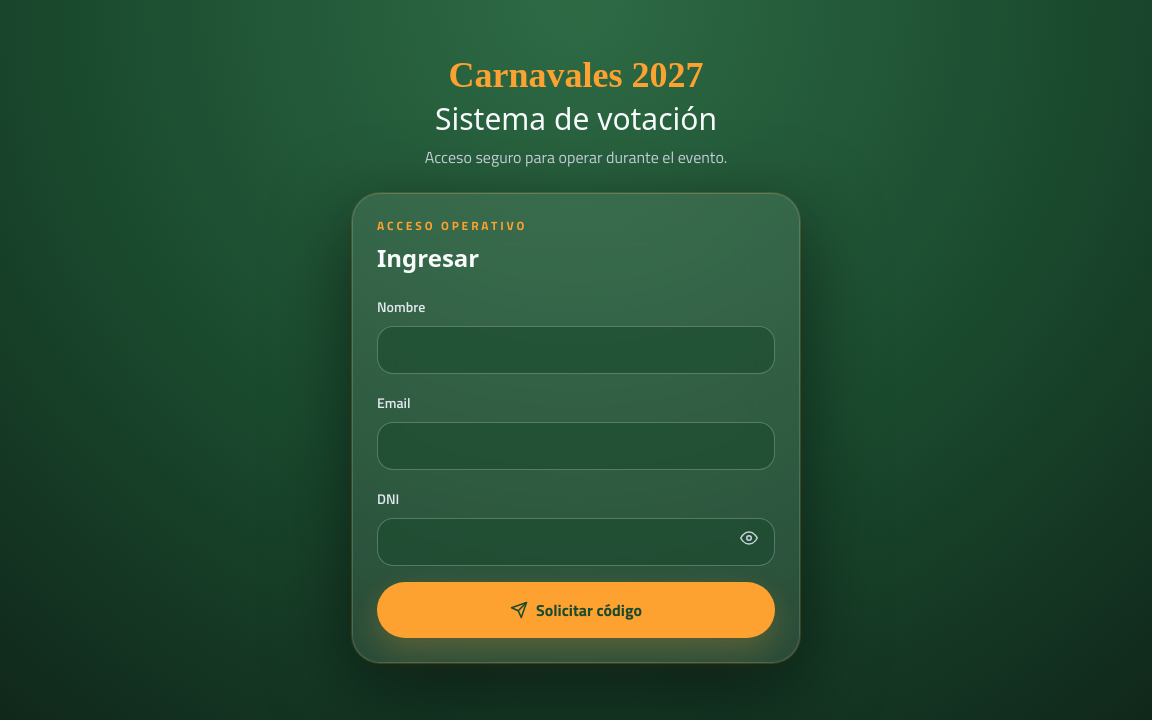
Test: LoginPage › keeps only six numeric OTP digits when pasted
The width and height of the screenshot is (1152, 720).
Type "Martin Juncos" into the field labelled "Nombre".
click(576, 350); type("Martin Juncos")  # box [377,326,775,374]
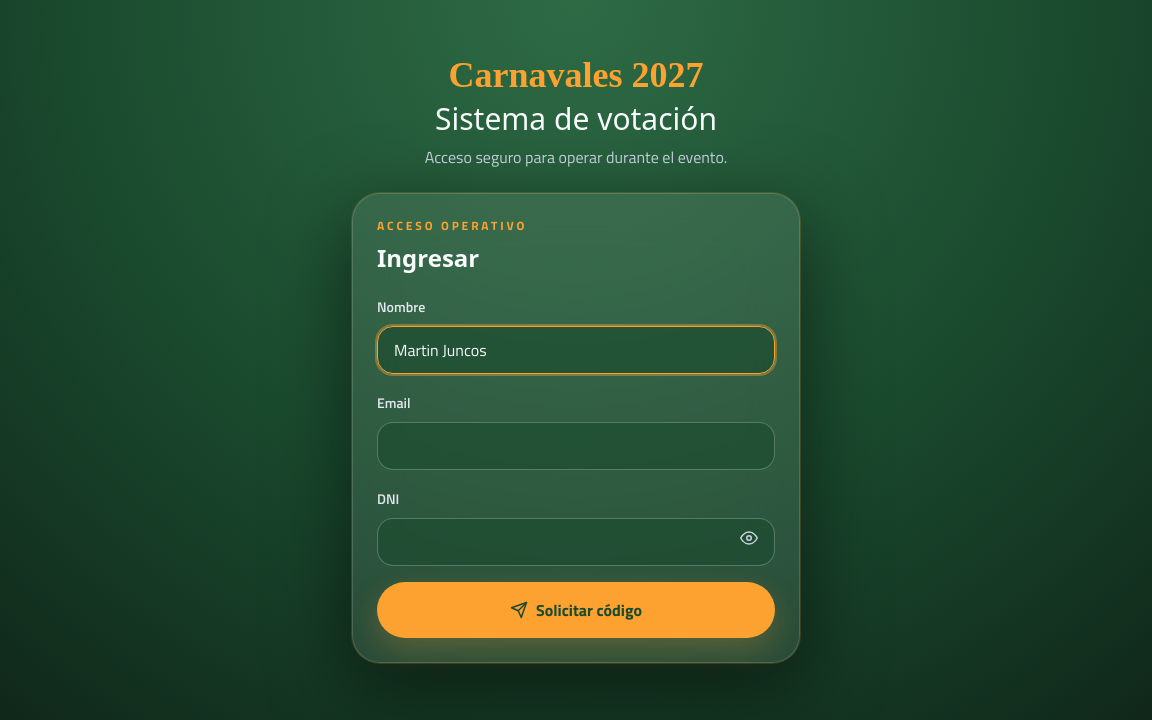
Type "jurado@example.com" into the field labelled "Email".
click(576, 446); type("jurado@example.com")  # box [377,422,775,470]
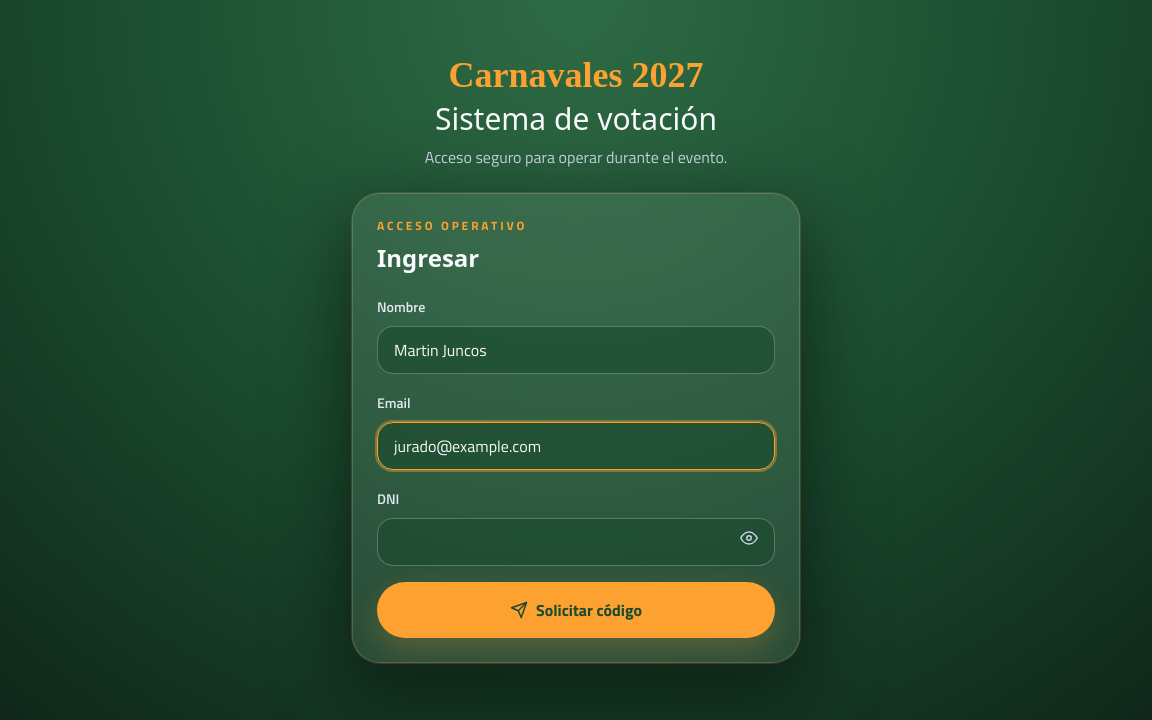
Type "25609038" into the password field labelled "DNI".
click(576, 542); type("25609038")  # box [377,518,775,566]
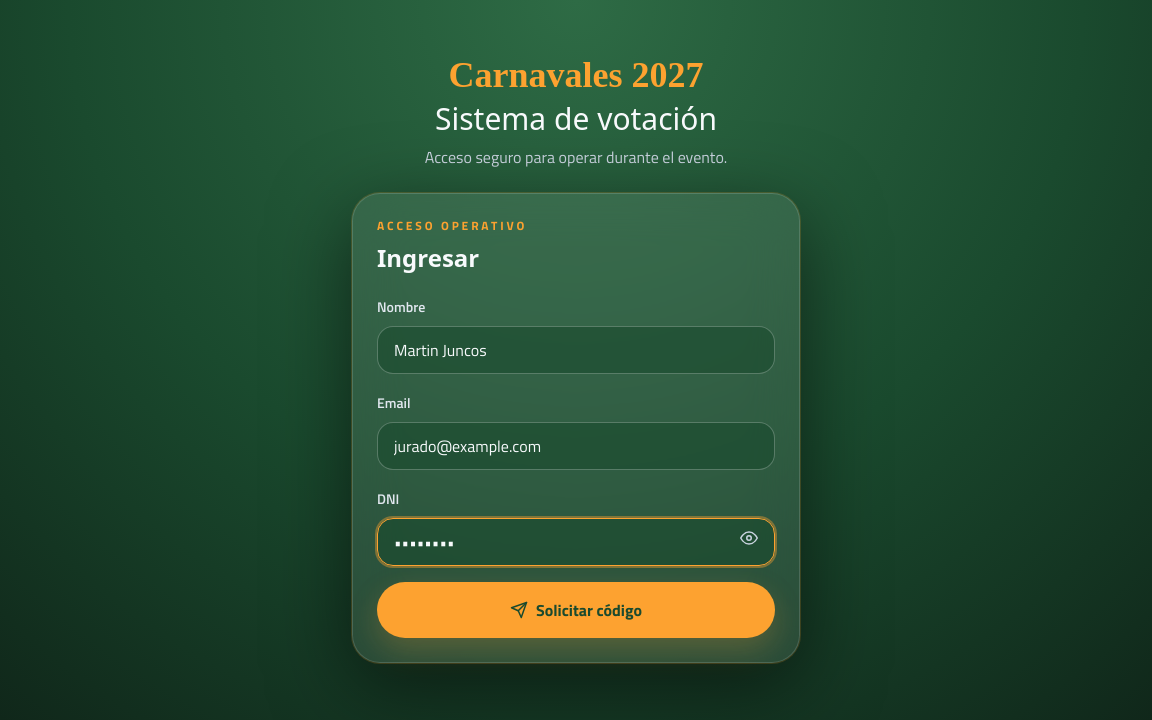
Click the button "Solicitar código".
click(576, 610)  # box [377,582,775,638]
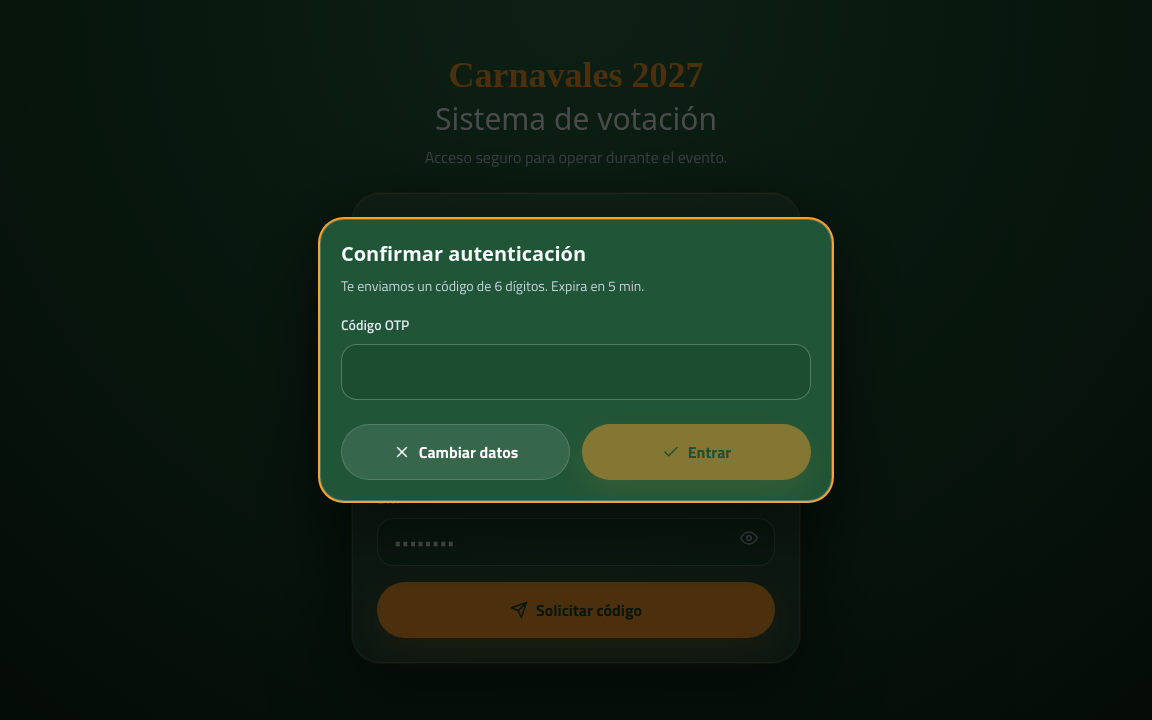
Type "12ab345678" into the field labelled "Código OTP".
click(576, 372); type("12ab345678")  # box [341,344,811,400]
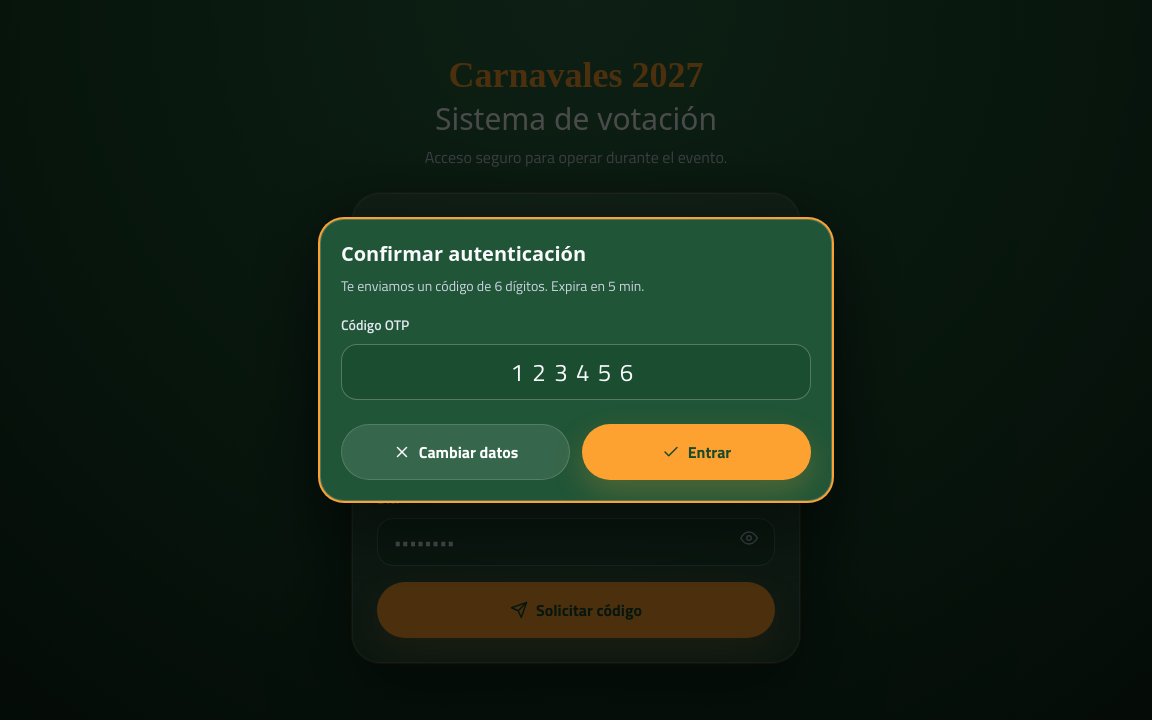
Check: the field labelled "Código OTP" holds "123456", box [341,344,811,400]
